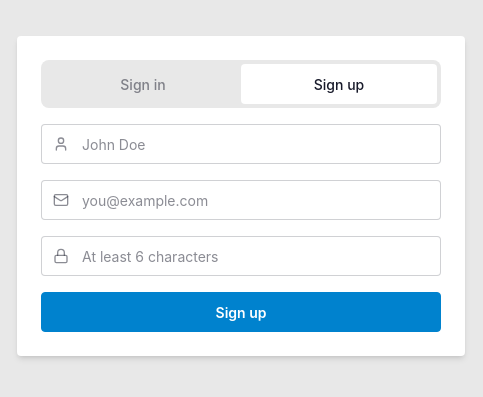
Test: AuthPage — sign up tab › rejects bad emails and short passwords
Type "Ok" into the field named "display name".
click(241, 144); type("Ok")  # box [41,124,441,164]
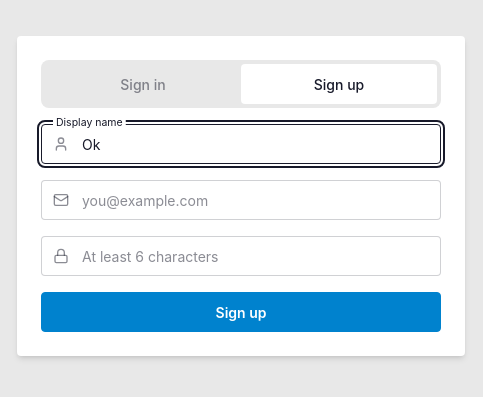
Type "not-an-email" into the field named "email".
click(241, 200); type("not-an-email")  # box [41,180,441,220]
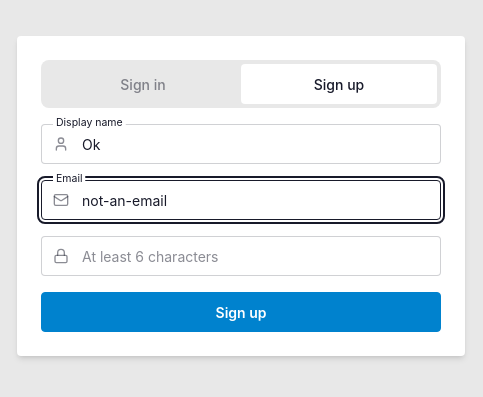
Type "abc" into the password field named "password".
click(241, 256); type("abc")  # box [41,236,441,276]
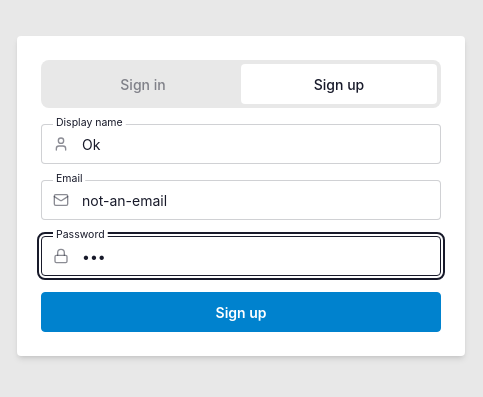
Click the button "Sign up".
click(241, 312)  # box [41,292,441,332]
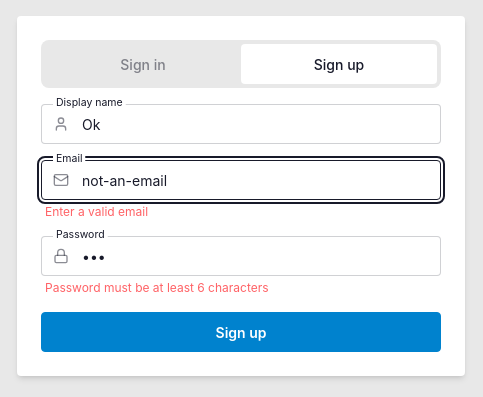
Check: the text "Enter a valid email" is shown, box [45,204,148,219]
Check: the text "Password must be at least 6 characters" is shown, box [45,280,269,295]
